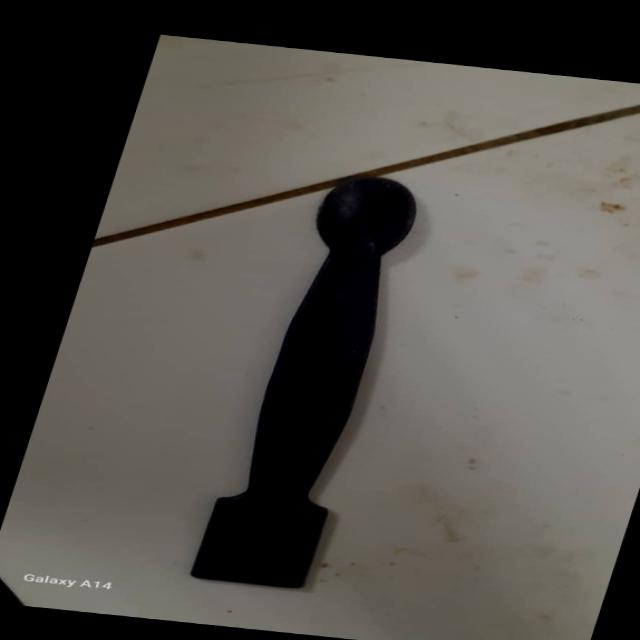Spatula: (187, 163, 462, 594)
